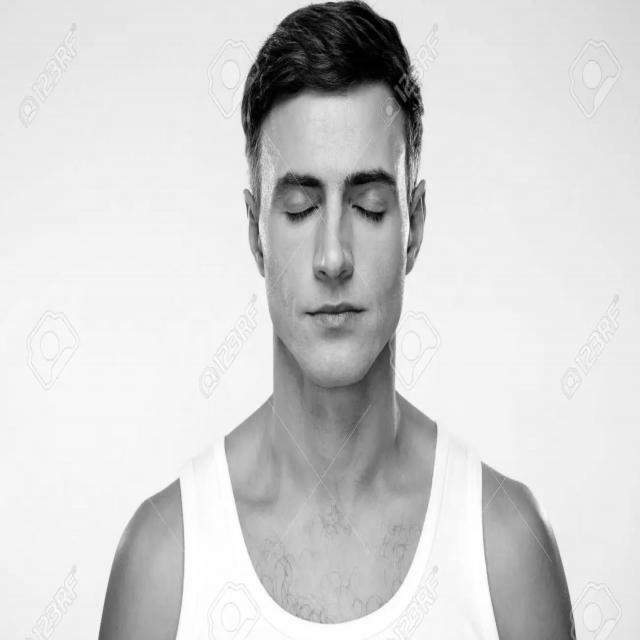real: (244, 82, 426, 385), (268, 154, 409, 240)
